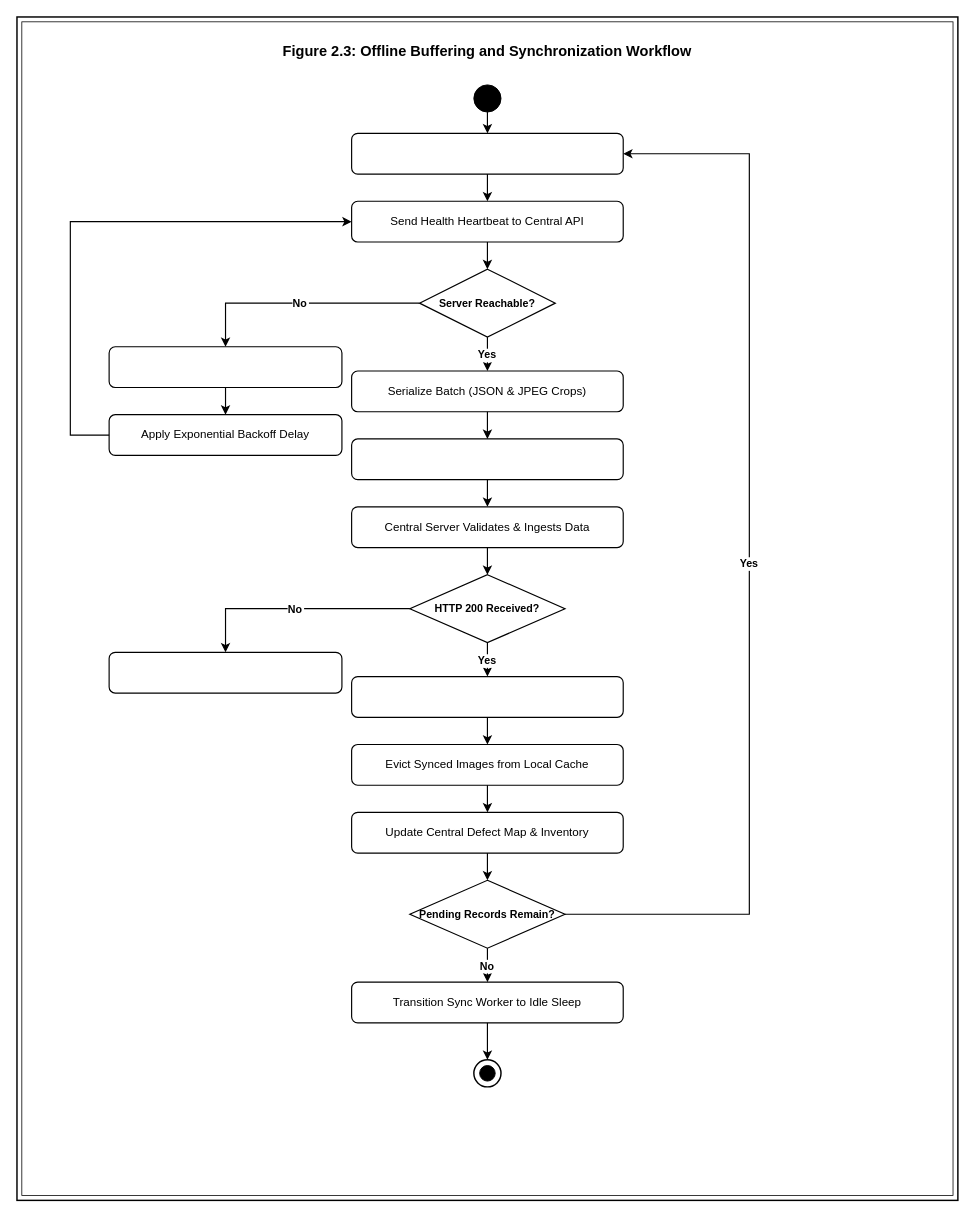
This 976x1218 diagram has some shape labels left out. Here are the shapes that lost their labels. From the top down, the centre of each, then its label:
At point (487, 153): "Query Pending Batches from Outbox".
At point (225, 367): "Increment Retry Counter".
At point (487, 459): "Transmit Batch via HTTPS REST".
At point (225, 672): "Log Ingestion Failure & Requeue".
At point (487, 696): "Mark Outbox Records as Synced".
